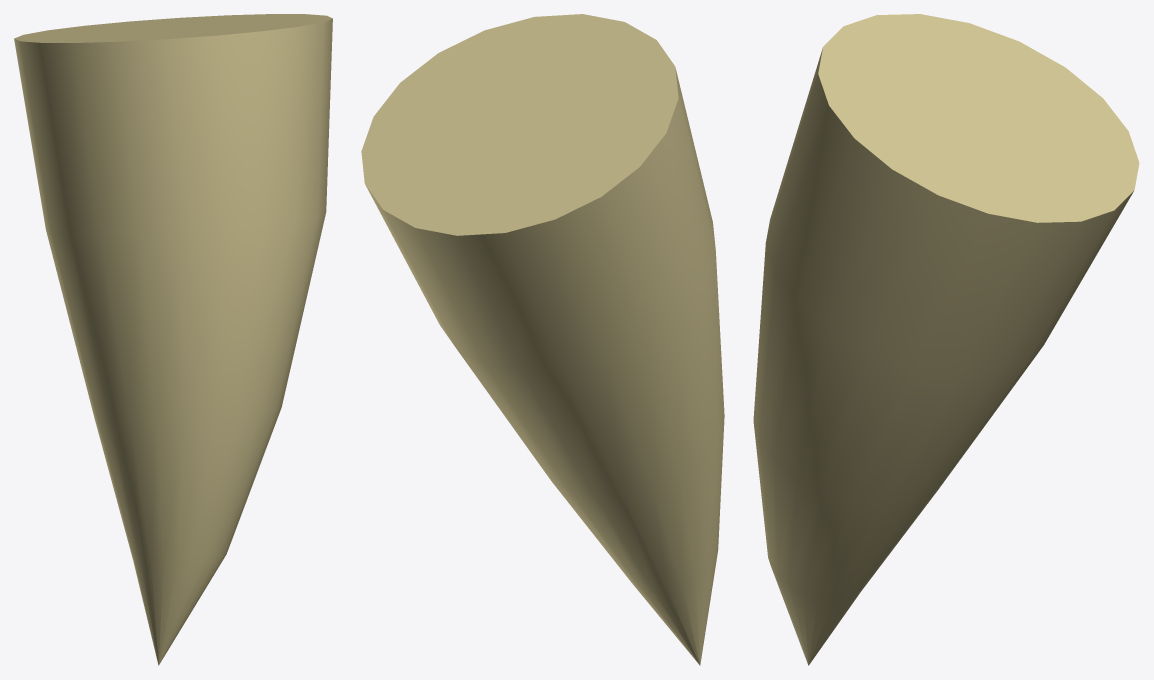
The model's file is Dracula_Tooth.fbx.
3 views of the same model, side by side, from view 1: azimuth 30°, elevation 25°; view 2: azimuth 150°, elevation 25°; view 3: azimuth 270°, elevation 25° (orthographic). The views are drawn at different scales.
Parts seen in each view (by area): view 1: Dracula_Tooth; view 2: Dracula_Tooth; view 3: Dracula_Tooth.
Part boxes in pixels (bbox=[...]): Dracula_Tooth: bbox=[14, 14, 332, 665]; Dracula_Tooth: bbox=[361, 14, 724, 665]; Dracula_Tooth: bbox=[753, 14, 1139, 665].
Bounding box in the file's own units: 0.0764 × 0.1602 × 0.0857.
